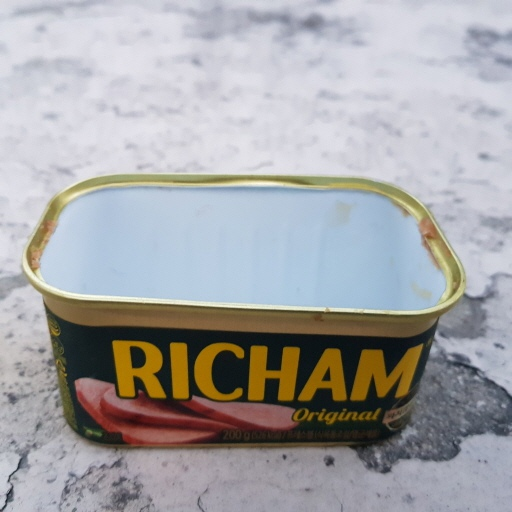Metal_2: (20, 171, 468, 450)
